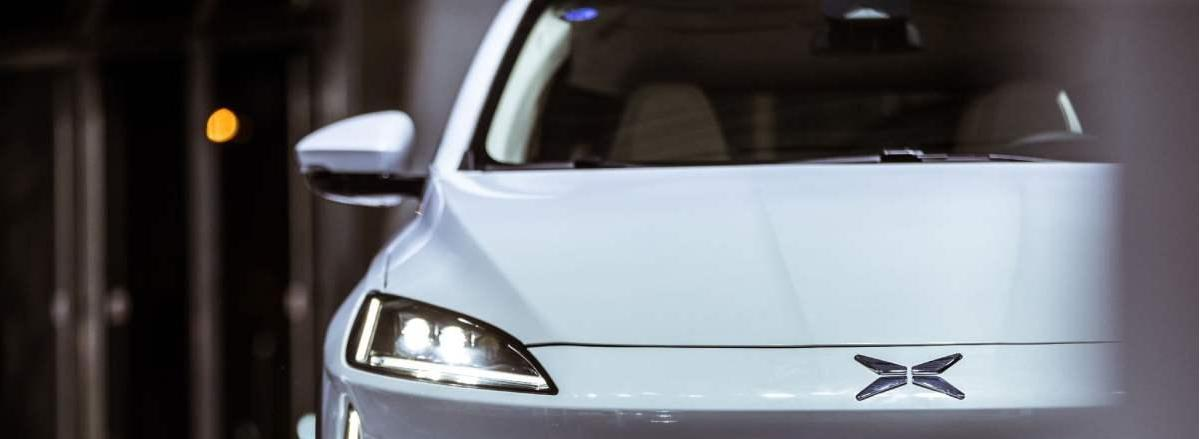XPeng Motors: (852, 353, 967, 400)
